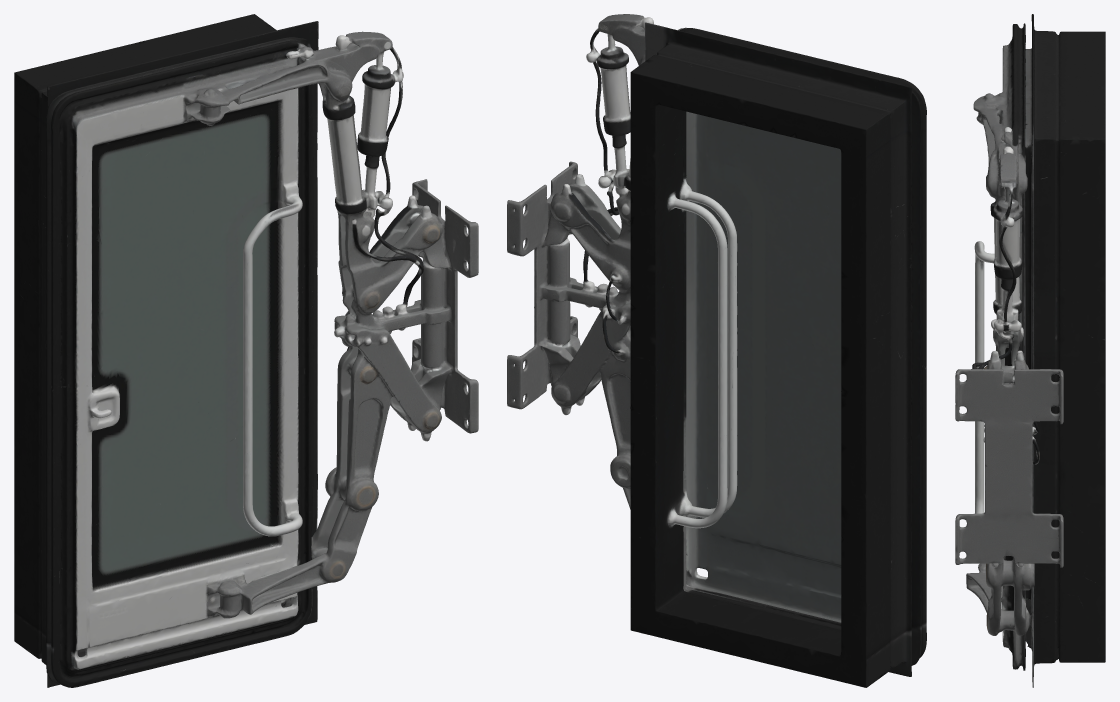
The model's file is puerta.glb.
3 renders of one model, left to right at view 1: azimuth 30°, elevation 25°; view 2: azimuth 150°, elevation 25°; view 3: azimuth 270°, elevation 25°, orthographic. The views are drawn at different scales.
Size of the model in its own units: 1.33 by 1.9 by 0.4688.
Materials: 1 (1 with a texture image).
